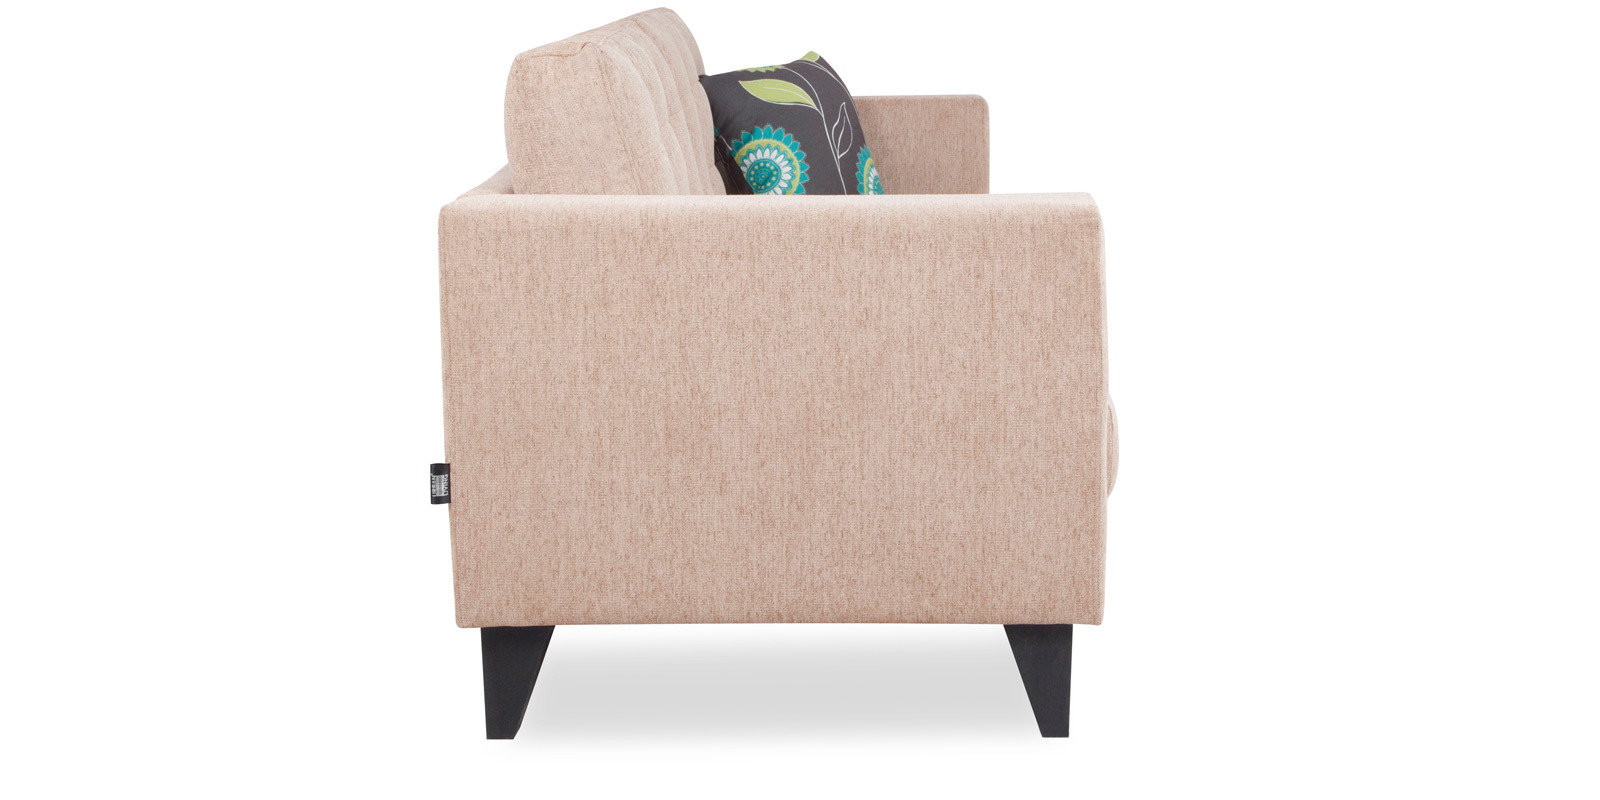Greenwich Three Seater Sofa in Beige Colour by Urban Living: (443, 6, 1127, 766)
